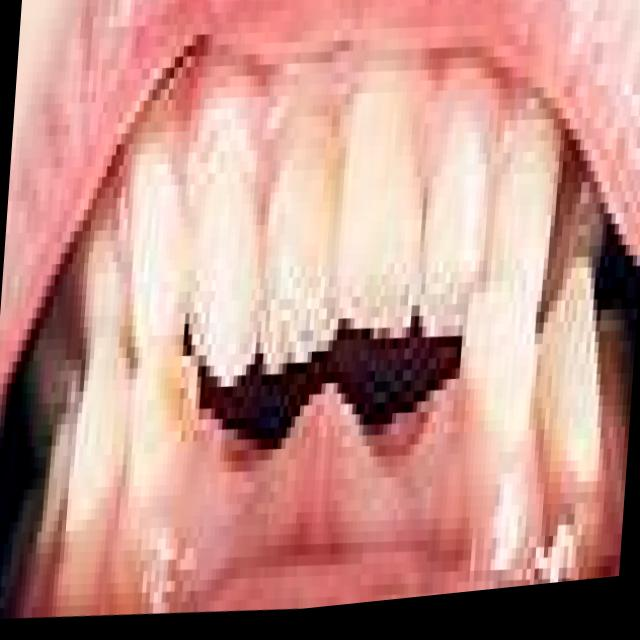hypodontia: (59, 337, 536, 616)
